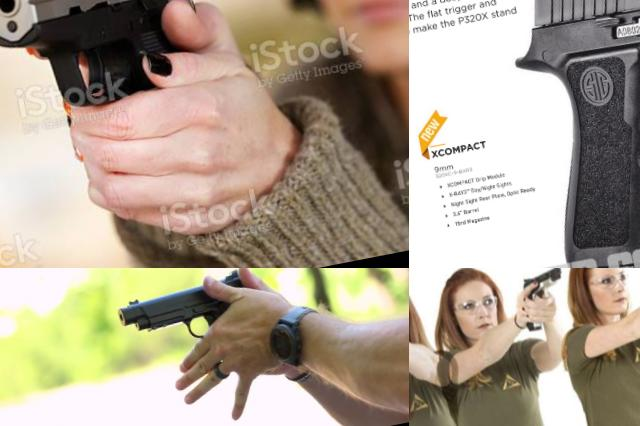handgun: (488, 0, 640, 268), (0, 0, 220, 145), (108, 268, 260, 359), (517, 268, 573, 332), (409, 336, 434, 412), (409, 309, 426, 377)
